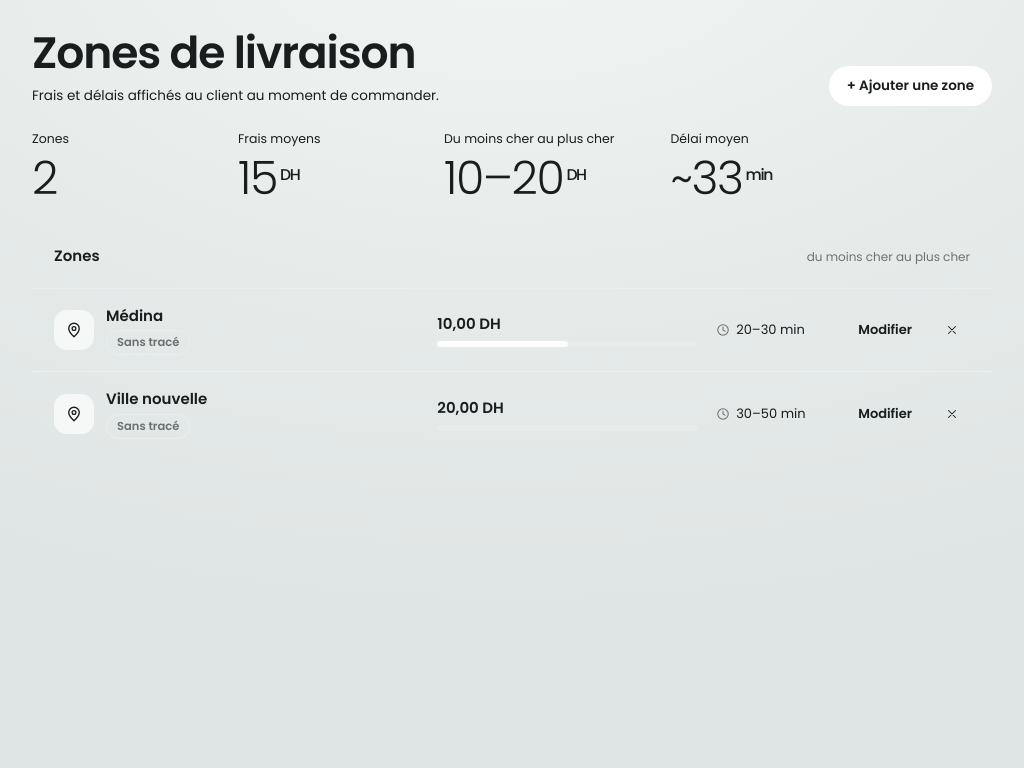
ZonesScreen › rend les frais et ouvre l’éditeur
Expected: the text "10–20" is shown, x1=444 y1=146 x2=563 y2=210
Click the button with aria-label "Modifier la zone Médina" at {"x": 885, "y": 330}, box x1=844 y1=312 x2=926 y2=348
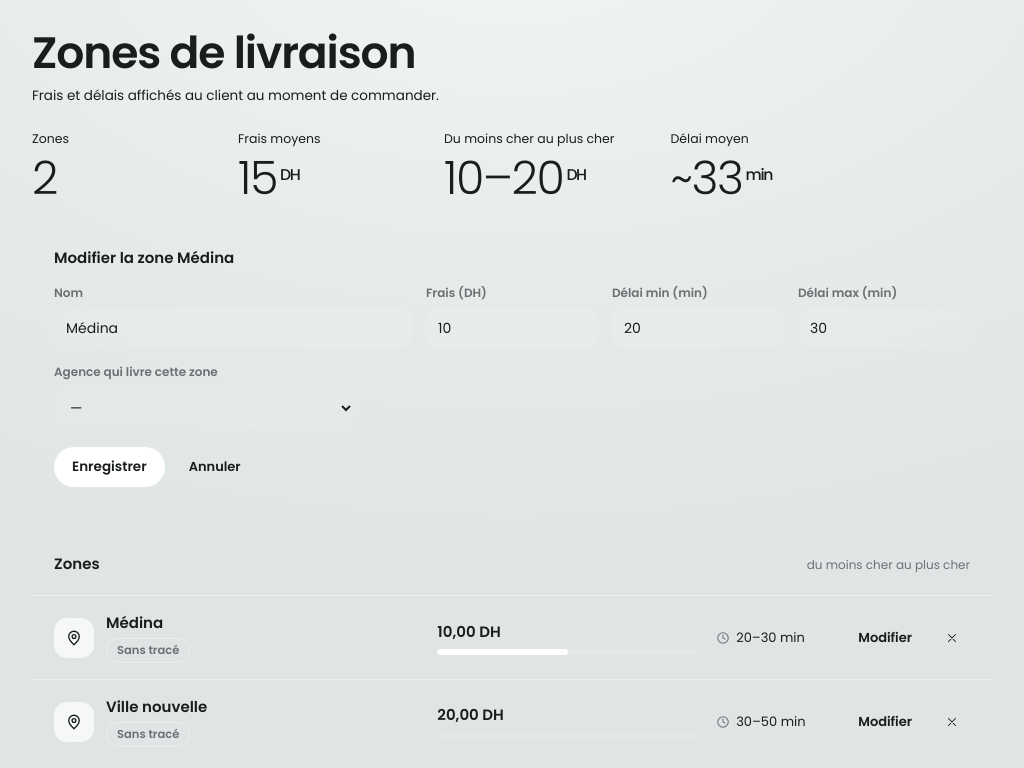
Now the heading "Modifier la zone Médina" is shown, box x1=54 y1=247 x2=234 y2=270
Now the number field labelled "Frais (DH)" holds "10", box x1=426 y1=308 x2=598 y2=349
